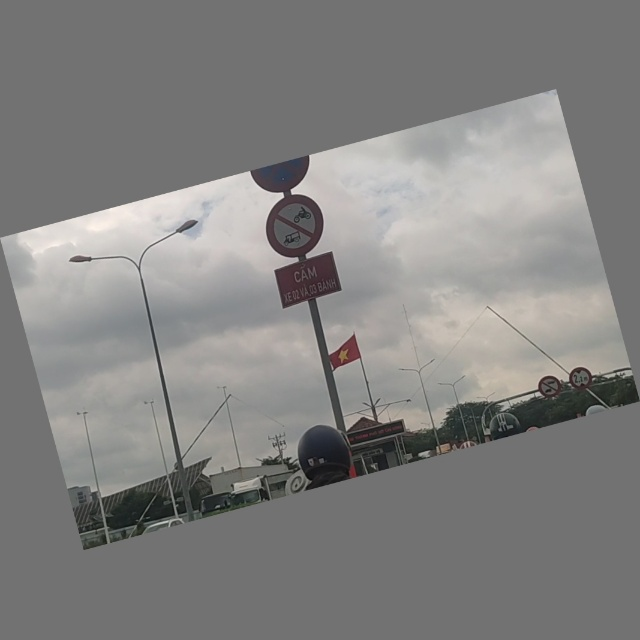P.107: (536, 373, 564, 400)
P.111: (258, 190, 333, 264)
P.117*: (566, 365, 595, 393)
P.130: (248, 157, 317, 199)
